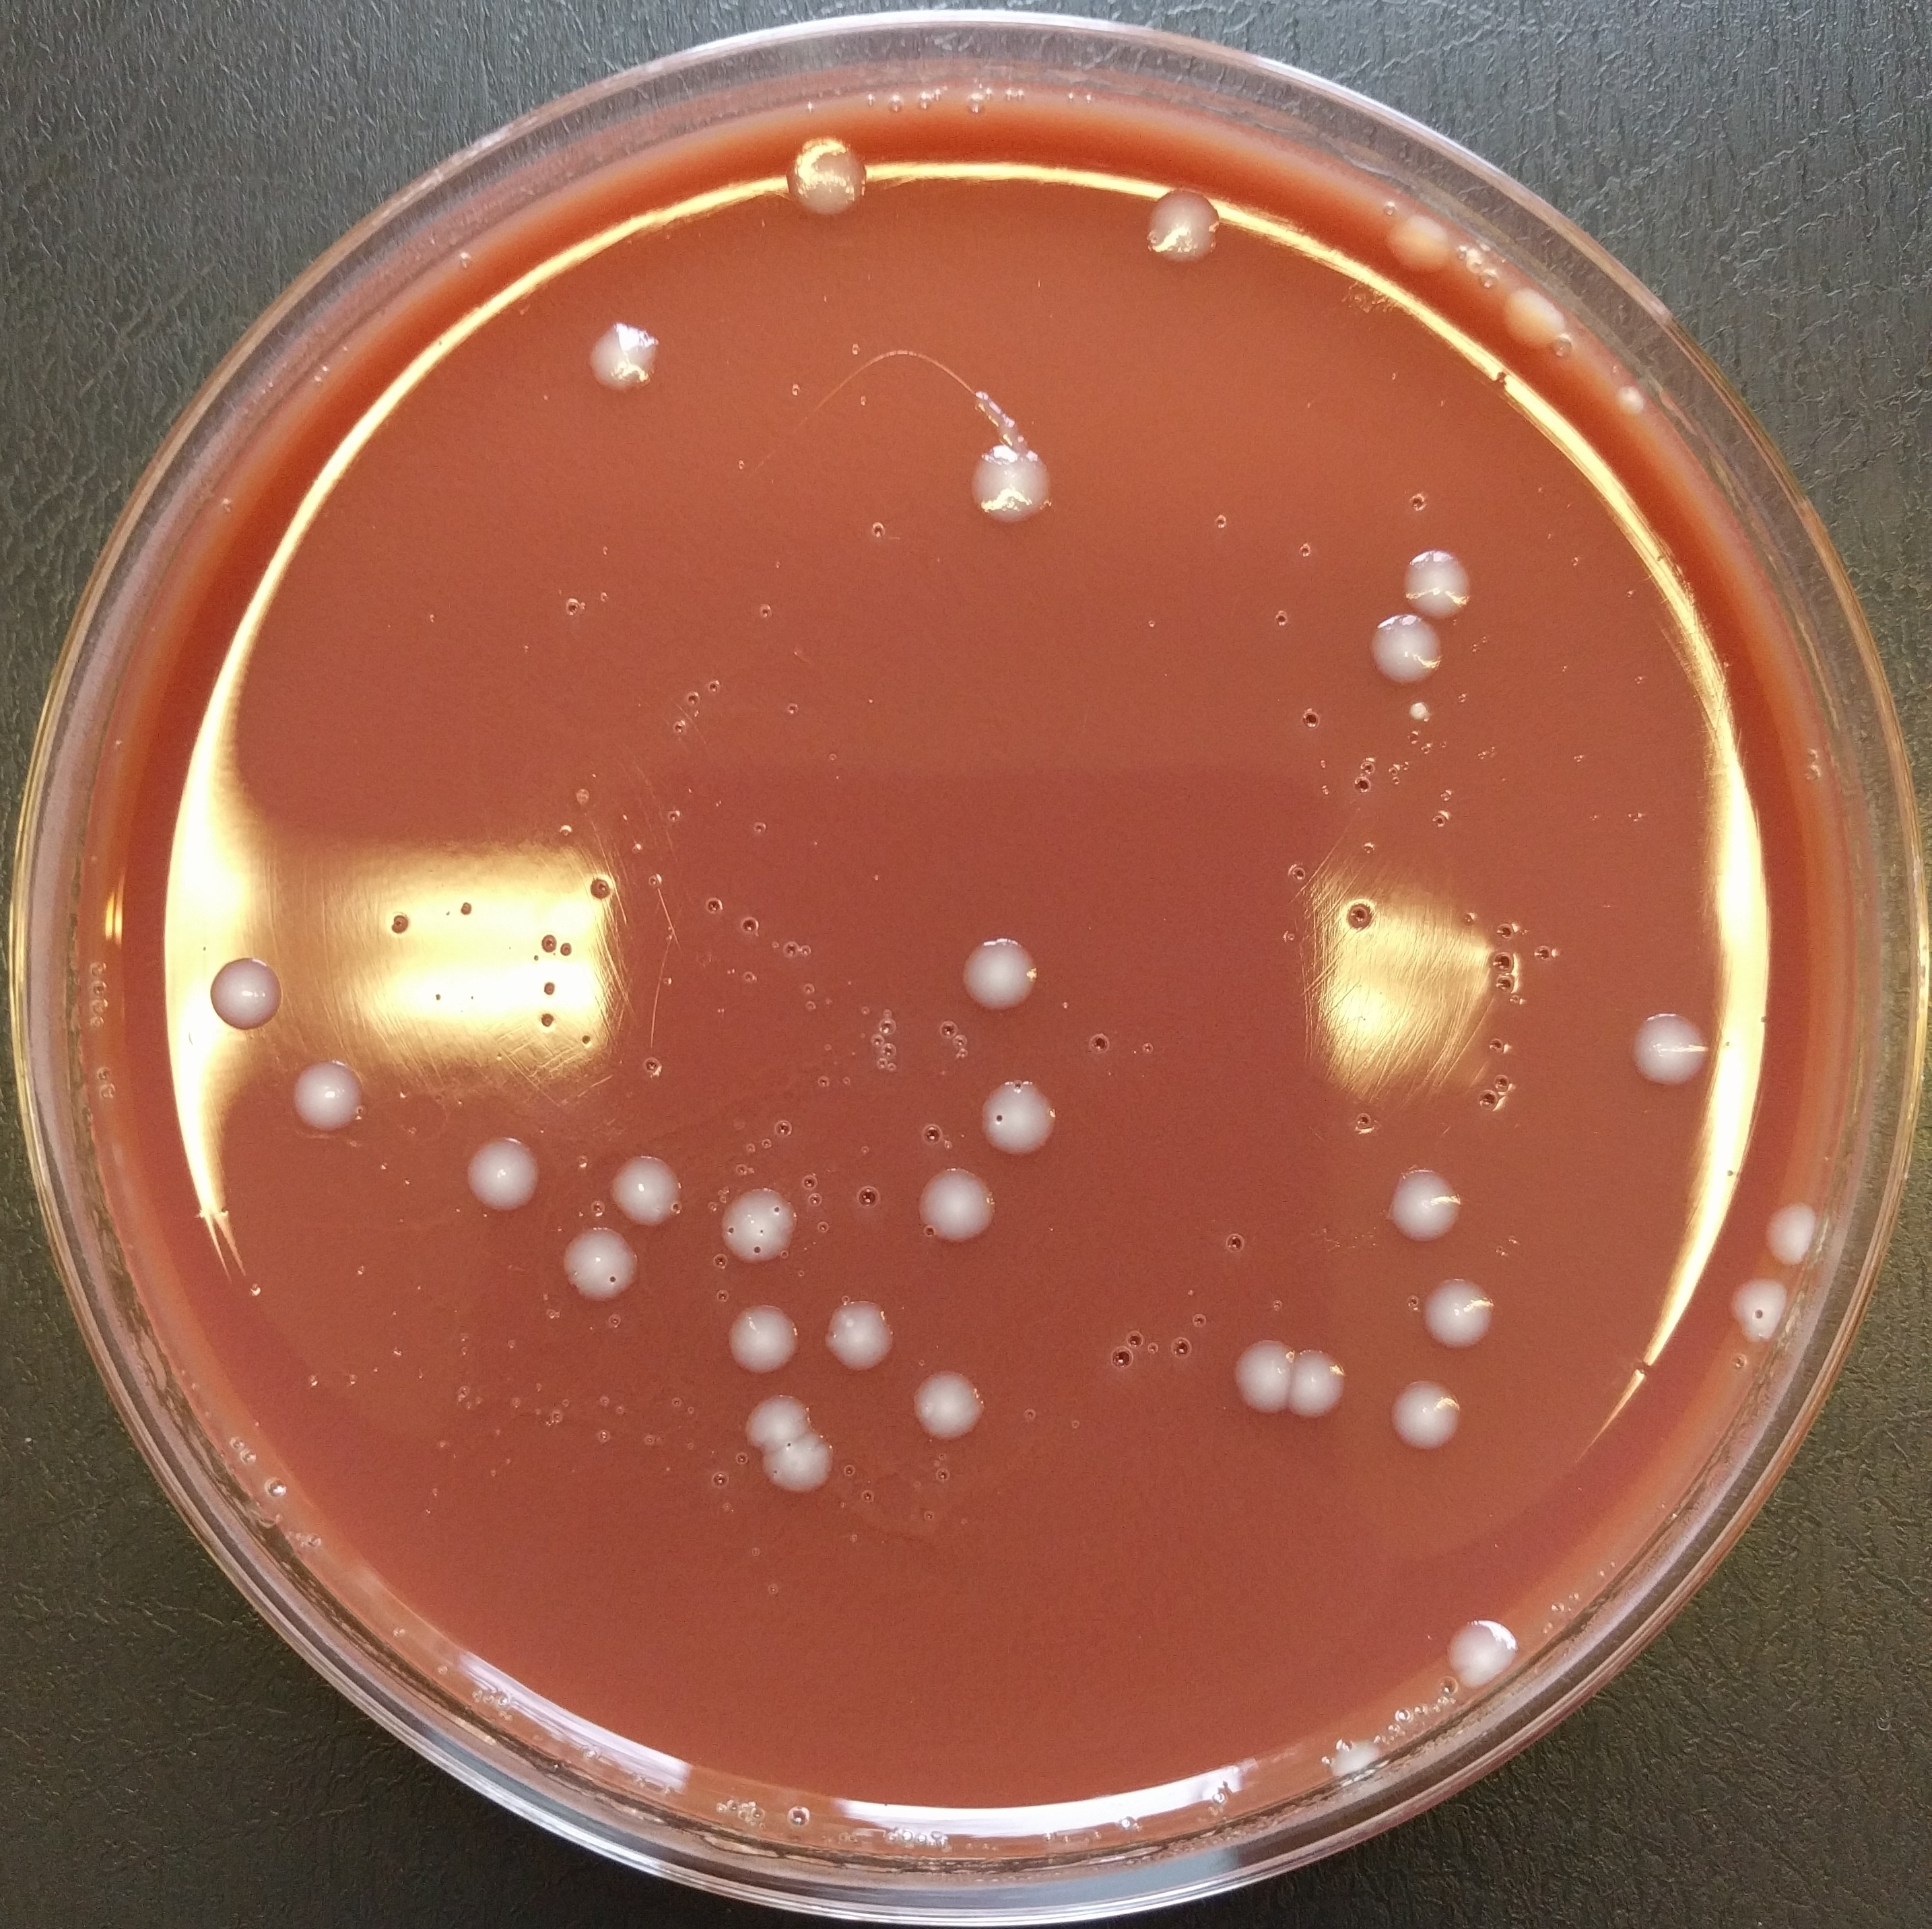sp02: (924, 367, 1113, 551), (1123, 147, 1266, 258), (1376, 514, 1512, 625), (955, 1055, 1090, 1159), (879, 1148, 1010, 1252), (768, 106, 890, 217), (941, 922, 1067, 1030), (466, 1095, 570, 1221), (583, 297, 694, 408), (547, 1215, 655, 1318), (888, 1348, 1005, 1441), (1208, 1318, 1298, 1438), (1372, 1154, 1480, 1252), (1434, 1588, 1529, 1696), (715, 1169, 819, 1261), (1422, 1251, 1512, 1353), (1349, 608, 1453, 696), (1616, 998, 1711, 1092), (724, 1286, 814, 1385), (609, 1131, 694, 1235), (293, 1037, 371, 1150), (1487, 276, 1570, 378), (1284, 1330, 1369, 1429), (201, 949, 295, 1033), (821, 1290, 920, 1367), (733, 1374, 832, 1450), (1704, 1268, 1791, 1353), (1759, 1180, 1844, 1265), (1393, 1353, 1459, 1456), (1374, 201, 1450, 286), (756, 1424, 849, 1491)
